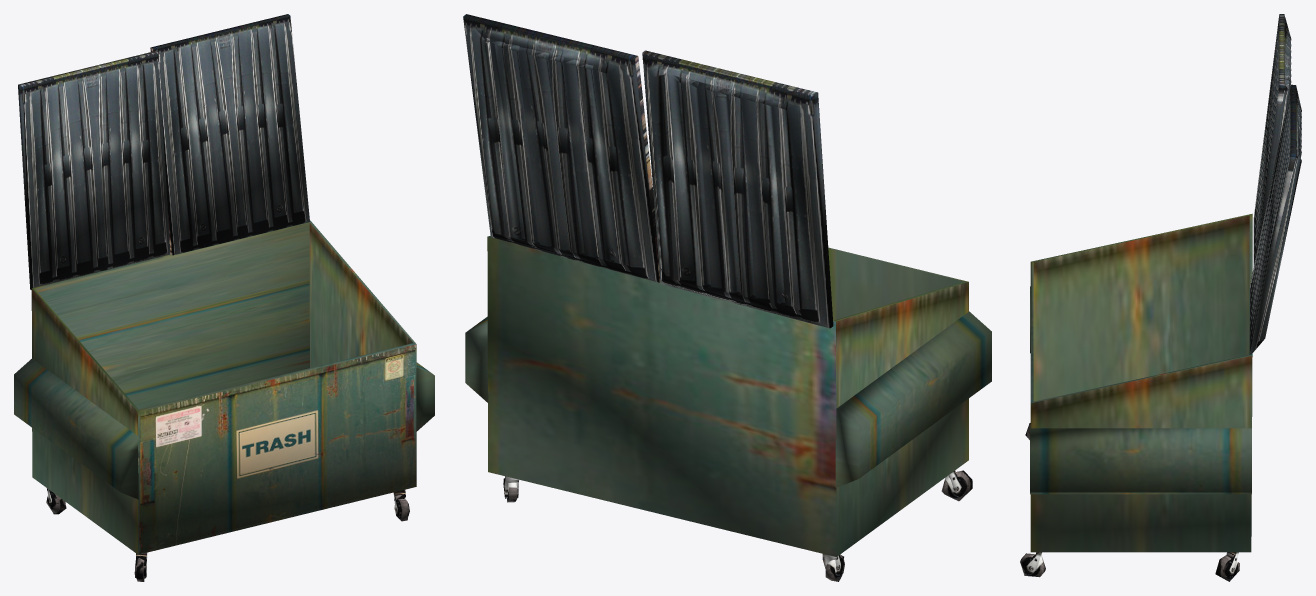
The model's file is dumpster_300.fbx.
3 views of the same model, side by side, from view 1: azimuth 30°, elevation 25°; view 2: azimuth 150°, elevation 25°; view 3: azimuth 270°, elevation 25° (orthographic). The views are drawn at different scales.
Visible parts, largest first — view 1: box0, doora0, doorb0, NoName_9, wheels0, bolsters0; view 2: box0, doora0, doorb0, NoName_9, bolsters0, wheels0; view 3: box0, bolsters0, doorb0, doora0, wheels0.
Boxes of the visible parts, box(x1,y1,x2,y2) form: box0: box(31, 220, 416, 554); doora0: box(18, 51, 170, 289); doorb0: box(150, 14, 309, 255); NoName_9: box(14, 358, 138, 499); wheels0: box(46, 488, 409, 581); bolsters0: box(416, 362, 434, 431); box0: box(487, 235, 968, 556); doora0: box(642, 50, 833, 328); doorb0: box(463, 14, 660, 282); NoName_9: box(835, 311, 991, 487); bolsters0: box(465, 316, 488, 402); wheels0: box(503, 470, 972, 581); box0: box(1030, 213, 1252, 552); bolsters0: box(1030, 427, 1251, 494); doorb0: box(1250, 84, 1301, 354); doora0: box(1253, 14, 1291, 266); wheels0: box(1020, 423, 1239, 581).
Size of the model in its own units: 3.56 by 4.45 by 2.65.
